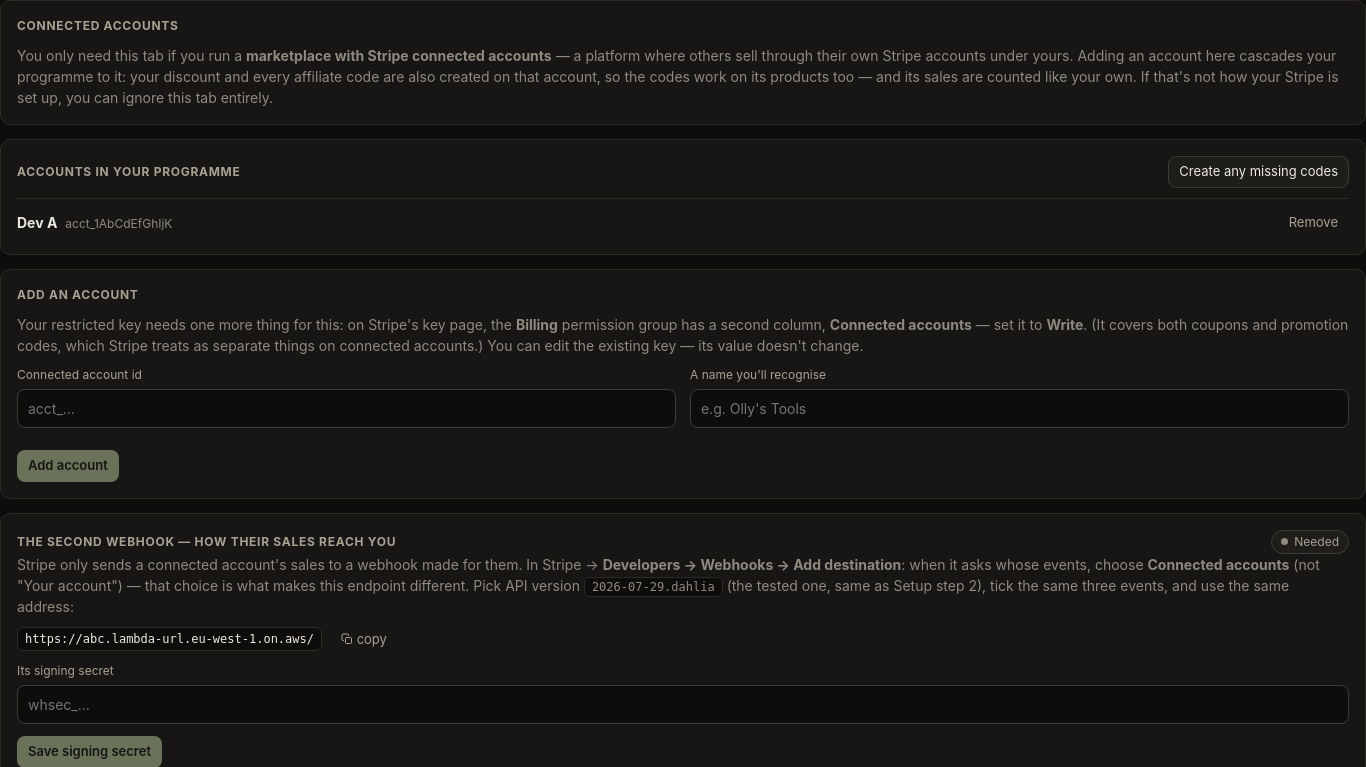
it: for a marketplace › names every code that could NOT be created, per account — never a silent partial
The width and height of the screenshot is (1366, 767).
Click the button "Create any missing codes". click: click(1259, 172)
box: [1168,156,1349,188]
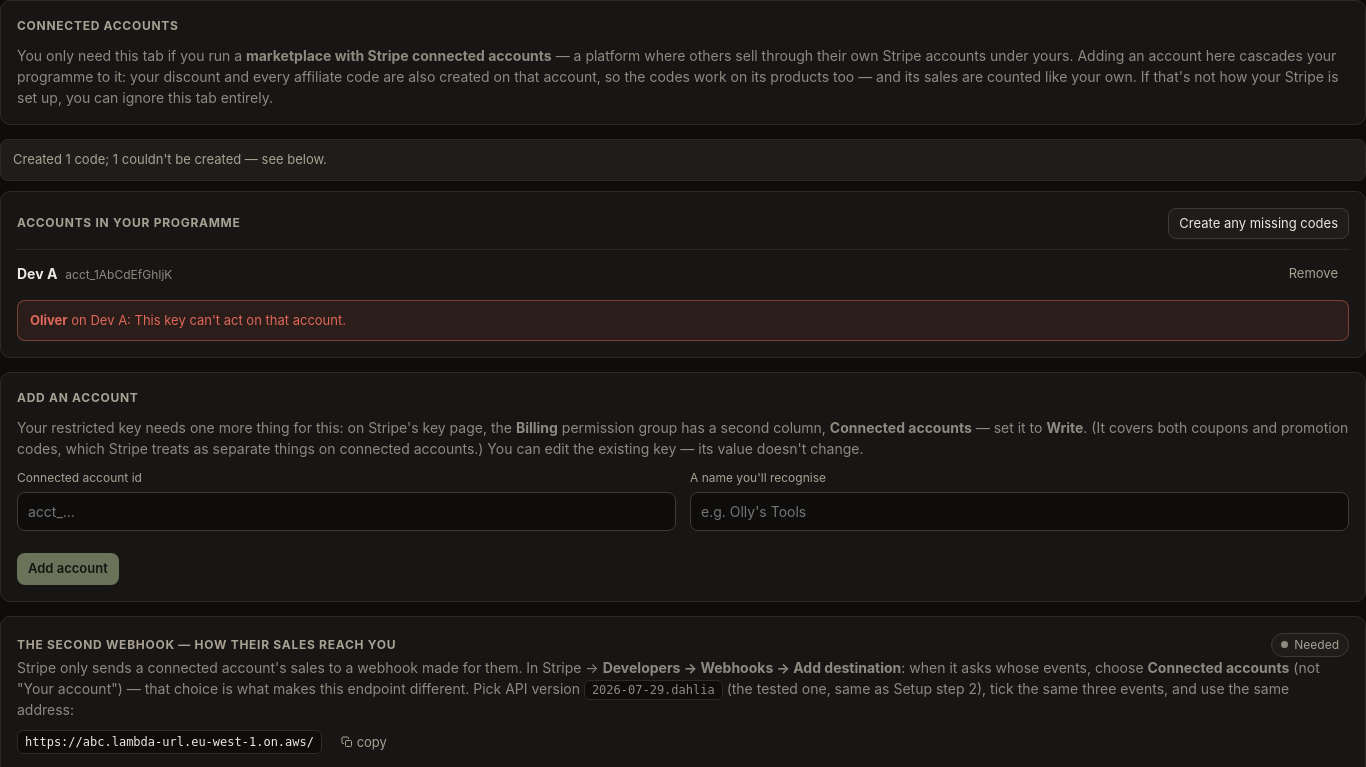
Now the text "Created 1 code; 1 couldn't be created — see below." is shown, box [0,139,1365,180]
Now the text "Oliver on Dev A: This key can't act on that account." is shown, box [30,312,346,328]
Now the text "Oliver" is shown, box [30,312,68,328]
